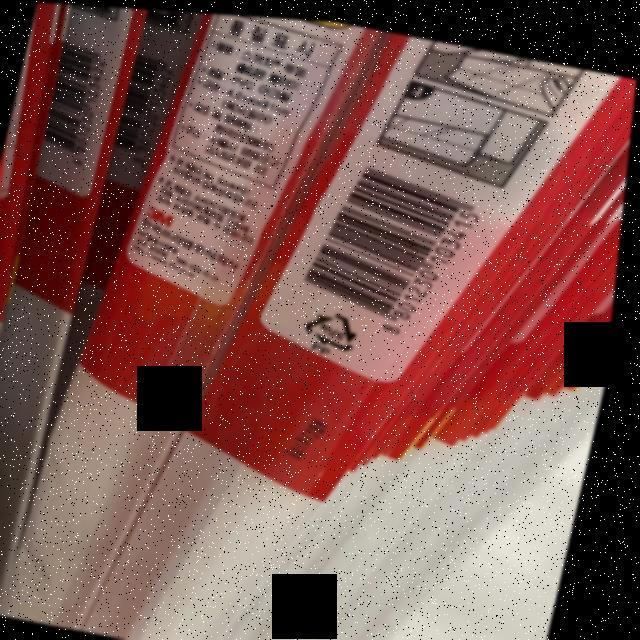Vinyl: (305, 300, 371, 350)
